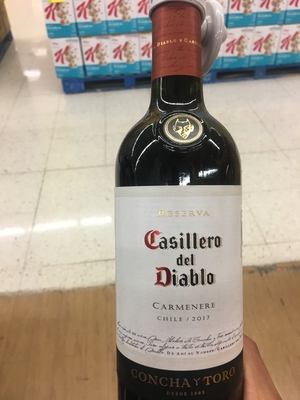casillero del diablo carmenere: (109, 19, 263, 399)
